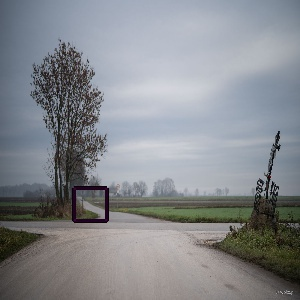square: (70, 184, 111, 225)
